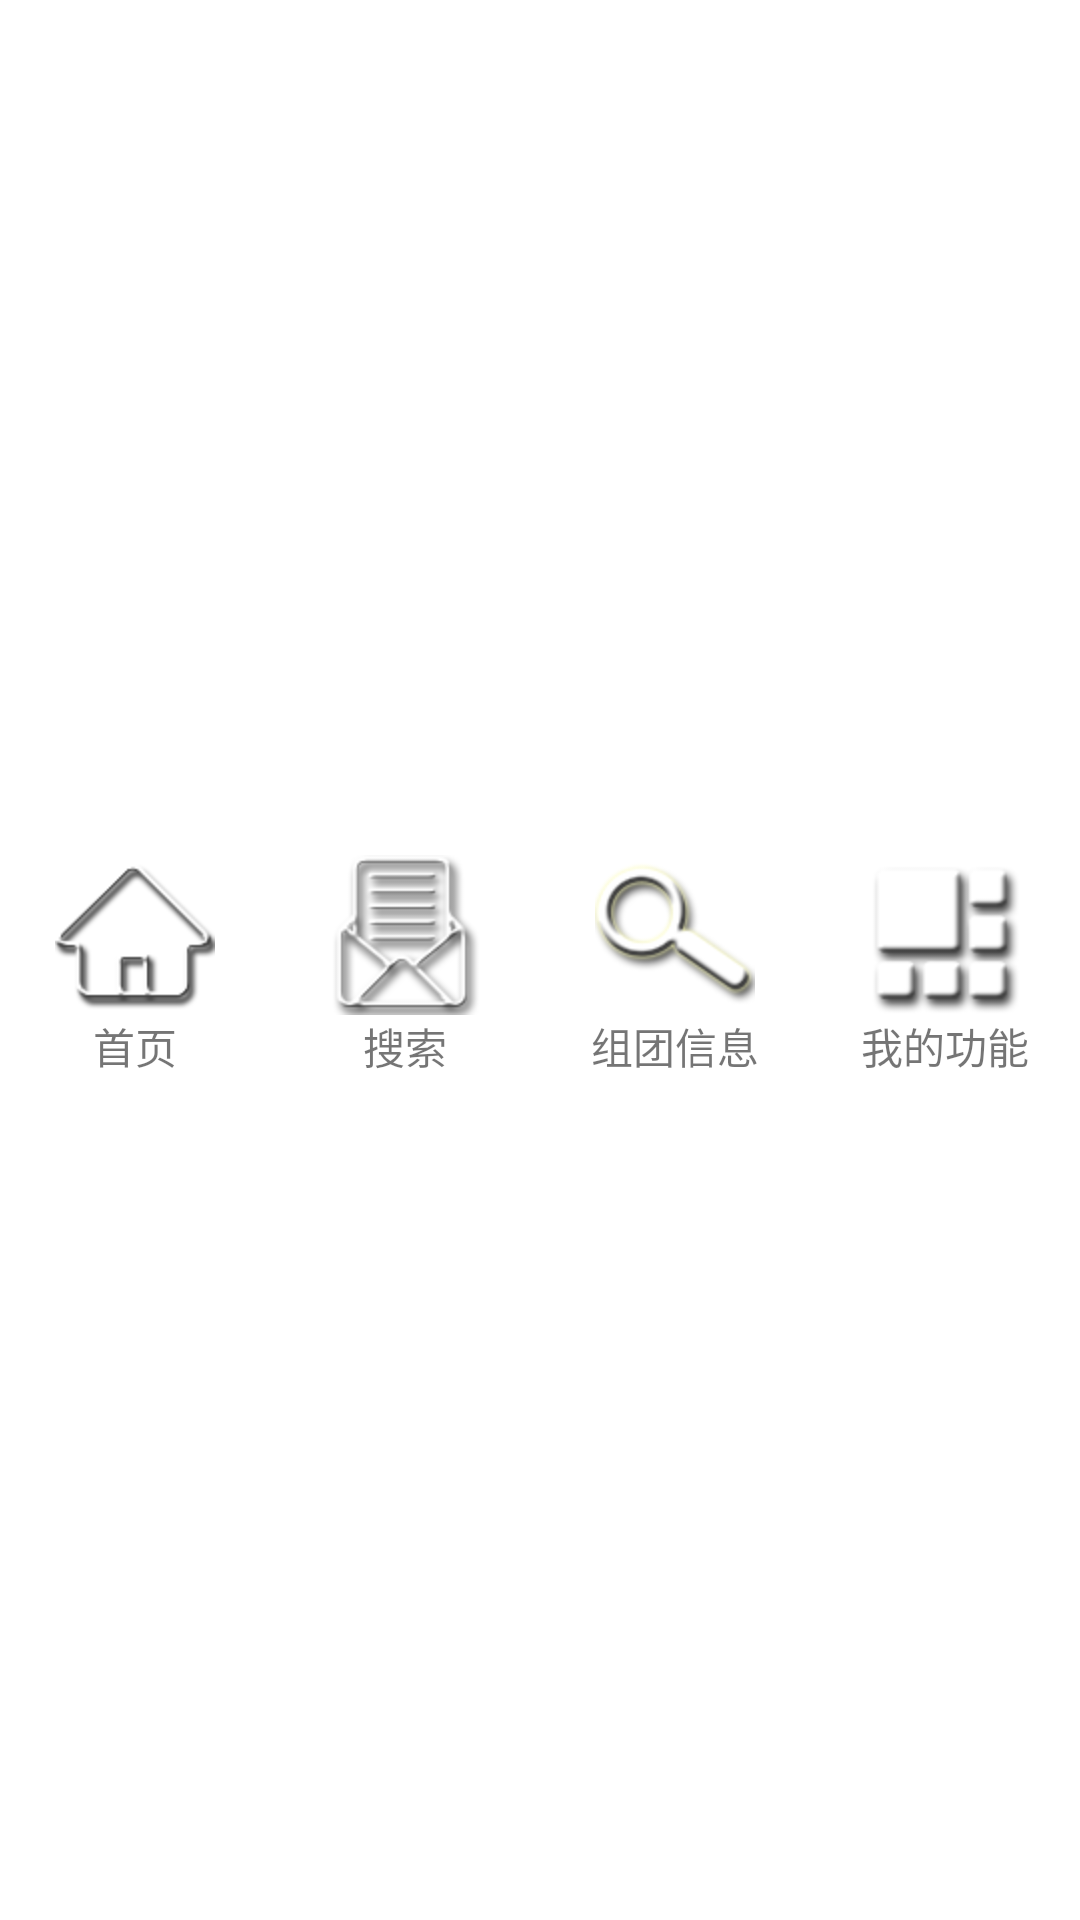

Point at icon controls on the screen. Image size 1080×1920, points as (x,y).
gengduo: (946,940)
sousuo: (675,933)
zixun: (406,937)
